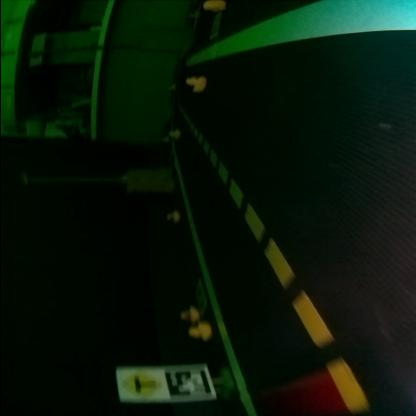Duckie: (184, 76, 206, 94), (178, 306, 196, 323), (189, 326, 208, 340), (201, 1, 225, 12), (164, 214, 178, 223)
Intersection sign: (118, 370, 160, 402)
QR code: (166, 366, 210, 400), (208, 18, 219, 40)
